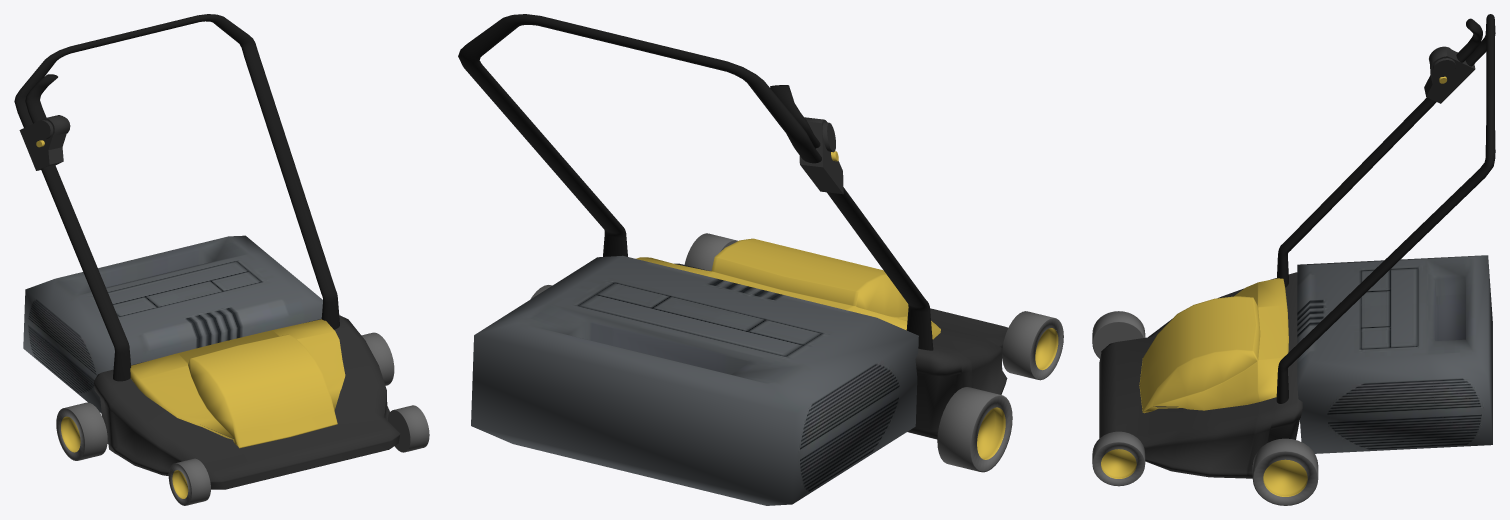
File: sh-scopia-mower.glb
3 renders of one model, left to right at view 1: azimuth 30°, elevation 25°; view 2: azimuth 150°, elevation 25°; view 3: azimuth 270°, elevation 25°, orthographic. The views are drawn at different scales.
Parts seen in each view (by area): view 1: Cube, Cube.001_Cube.006, mower.005_Cube.005, mower.001_Cube.000; view 2: Cube.001_Cube.006, Cube, mower.005_Cube.005, mower.001_Cube.000; view 3: Cube.001_Cube.006, Cube, mower.005_Cube.005, mower.001_Cube.000.
Part boxes in pixels (x1,y1,x2,y2): Cube: (19,115,400,498); Cube.001_Cube.006: (23,235,322,413); mower.005_Cube.005: (14,14,339,381); mower.001_Cube.000: (56,332,429,505); Cube.001_Cube.006: (471,255,918,505); Cube: (636,117,1058,459); mower.005_Cube.005: (458,14,933,350); mower.001_Cube.000: (530,233,1063,472); Cube.001_Cube.006: (1297,255,1492,453); Cube: (1099,46,1475,496); mower.005_Cube.005: (1276,14,1495,403); mower.001_Cube.000: (1092,311,1318,505).
Size of the model in its own units: 1 by 1 by 1.
Materials: 5 (1 with a texture image).
